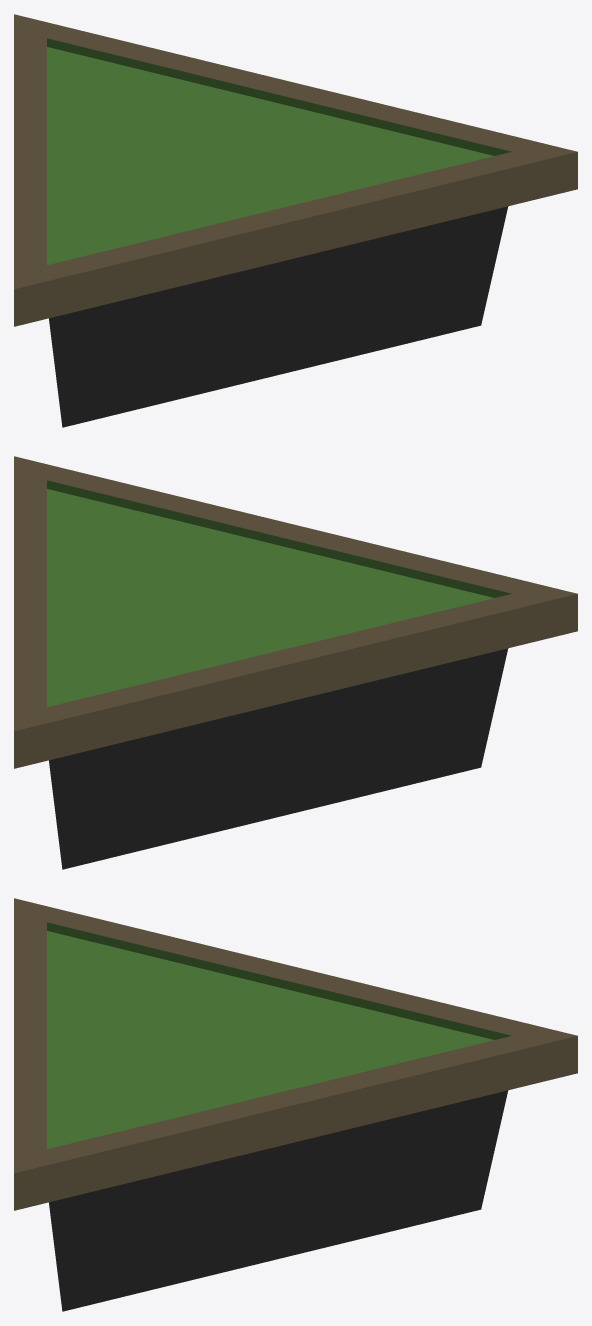
Rendered from MesaTriangular.glb.
The picture shows the model from 3 angles, top to bottom: view 1: azimuth 30°, elevation 25°; view 2: azimuth 150°, elevation 25°; view 3: azimuth 270°, elevation 25°; orthographic projection.
Visible parts, largest first — view 1: Cylinder; view 2: Cylinder; view 3: Cylinder.
Boxes of the visible parts, bbox=[...] form: Cylinder: bbox=[14, 14, 577, 427]; Cylinder: bbox=[14, 456, 577, 869]; Cylinder: bbox=[14, 898, 577, 1311].
Bounding box in the file's own units: 3.46 × 1.02 × 3.
